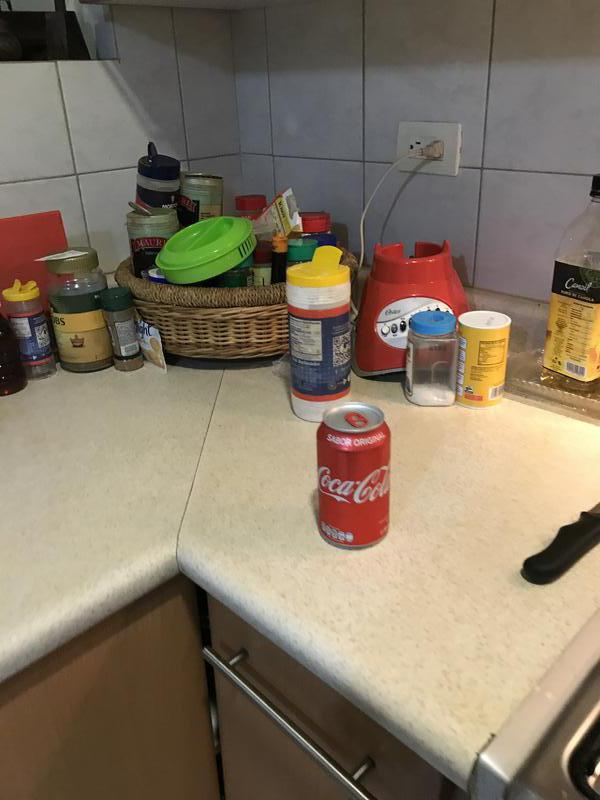coca_cola: (317, 403, 391, 549)
